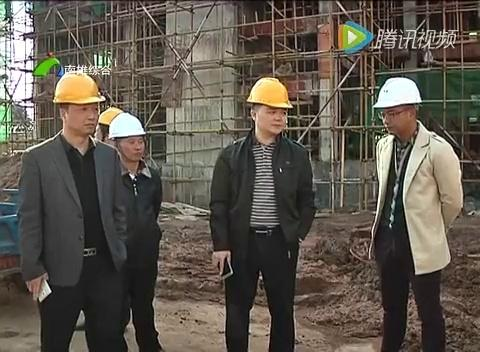helmet: (53, 69, 106, 143), (372, 73, 426, 142), (244, 75, 294, 140), (106, 111, 152, 165)
not_reflective: (15, 127, 125, 289), (363, 125, 468, 272), (207, 128, 319, 259), (114, 155, 166, 274)
